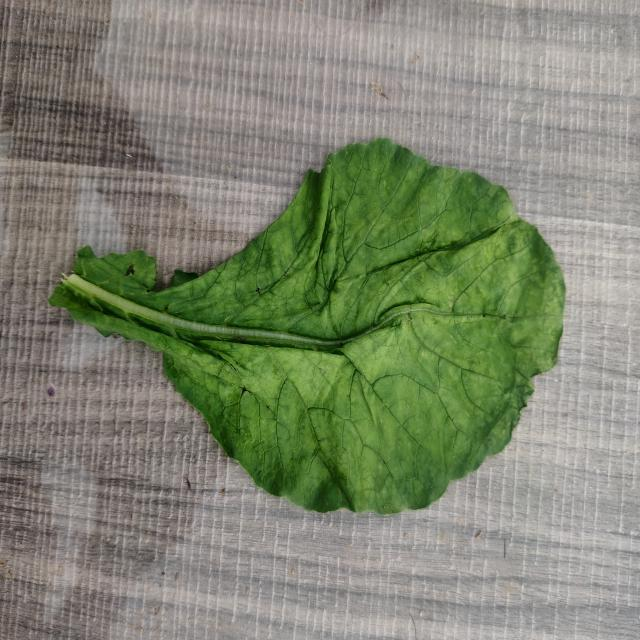leaf: (47, 136, 566, 516)
